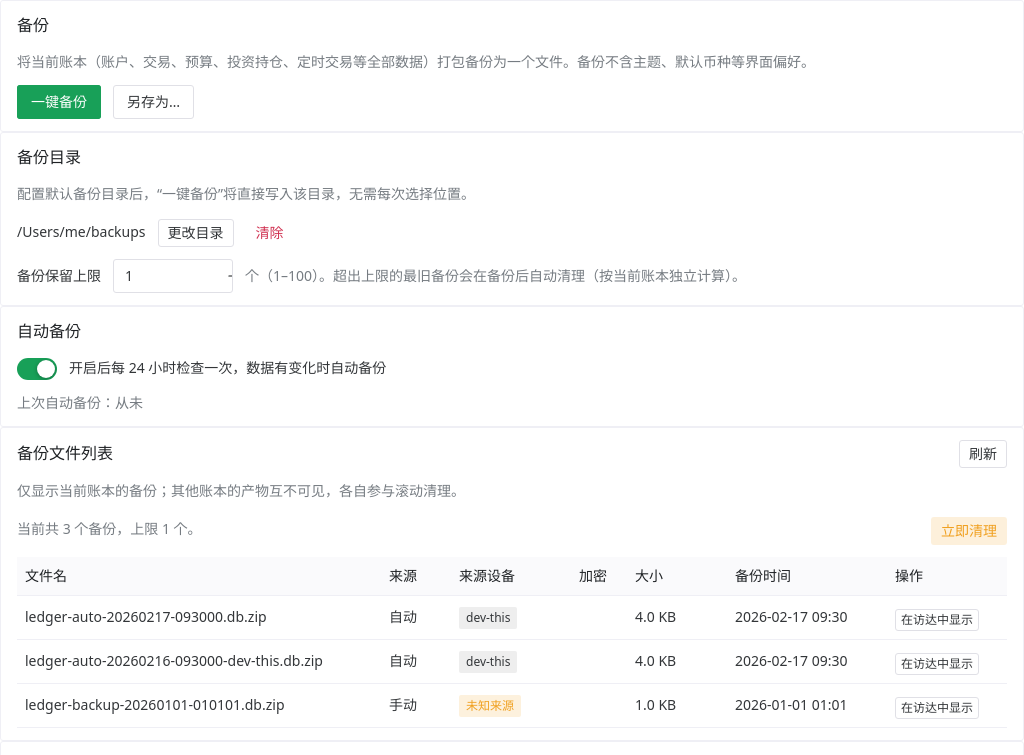
Test: BackupSettings 手动清理确认弹窗（issue #652 / ADR-0078） › 超上限点「立即清理」：弹 warning 级应用内弹窗，待删数量只统计本设备名下产物且与不可恢复后果在场，不立即删除
Click the button "立即清理" at [969, 531], box [931, 517, 1007, 545]
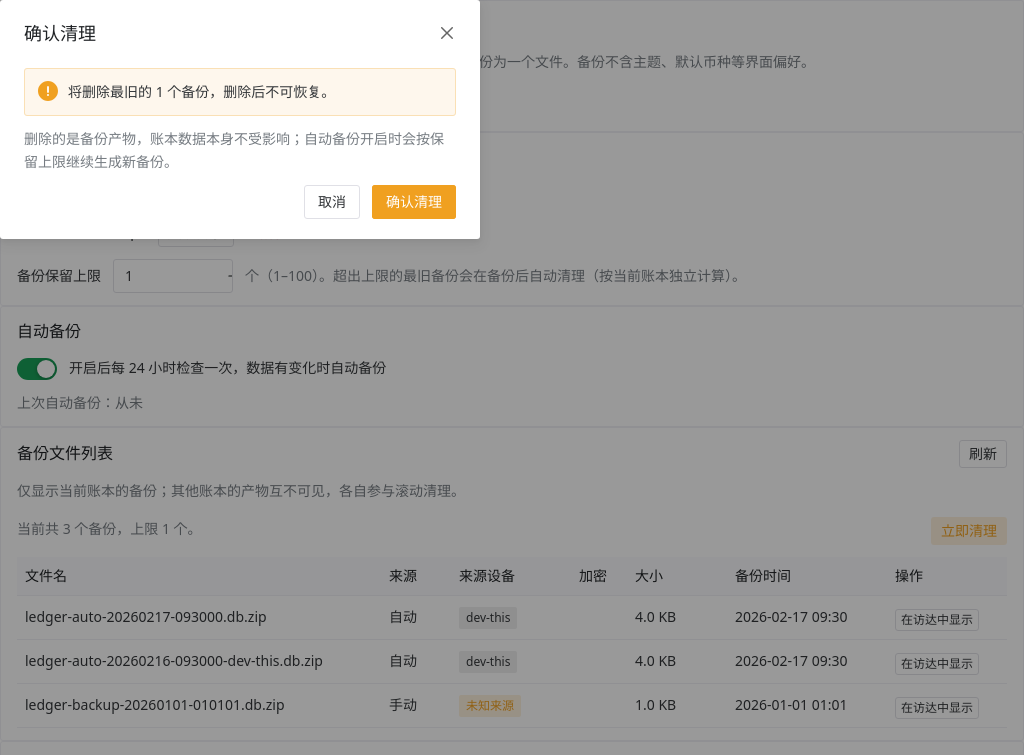
Expected: the message "将删除最旧的 1 个备份，删除后不可恢复。" is shown, [24, 68, 456, 116]
Expected: the text "将删除最旧的 1 个备份" is shown, [68, 82, 335, 101]
Expected: the text "删除后不可恢复" is shown, [68, 82, 335, 101]
